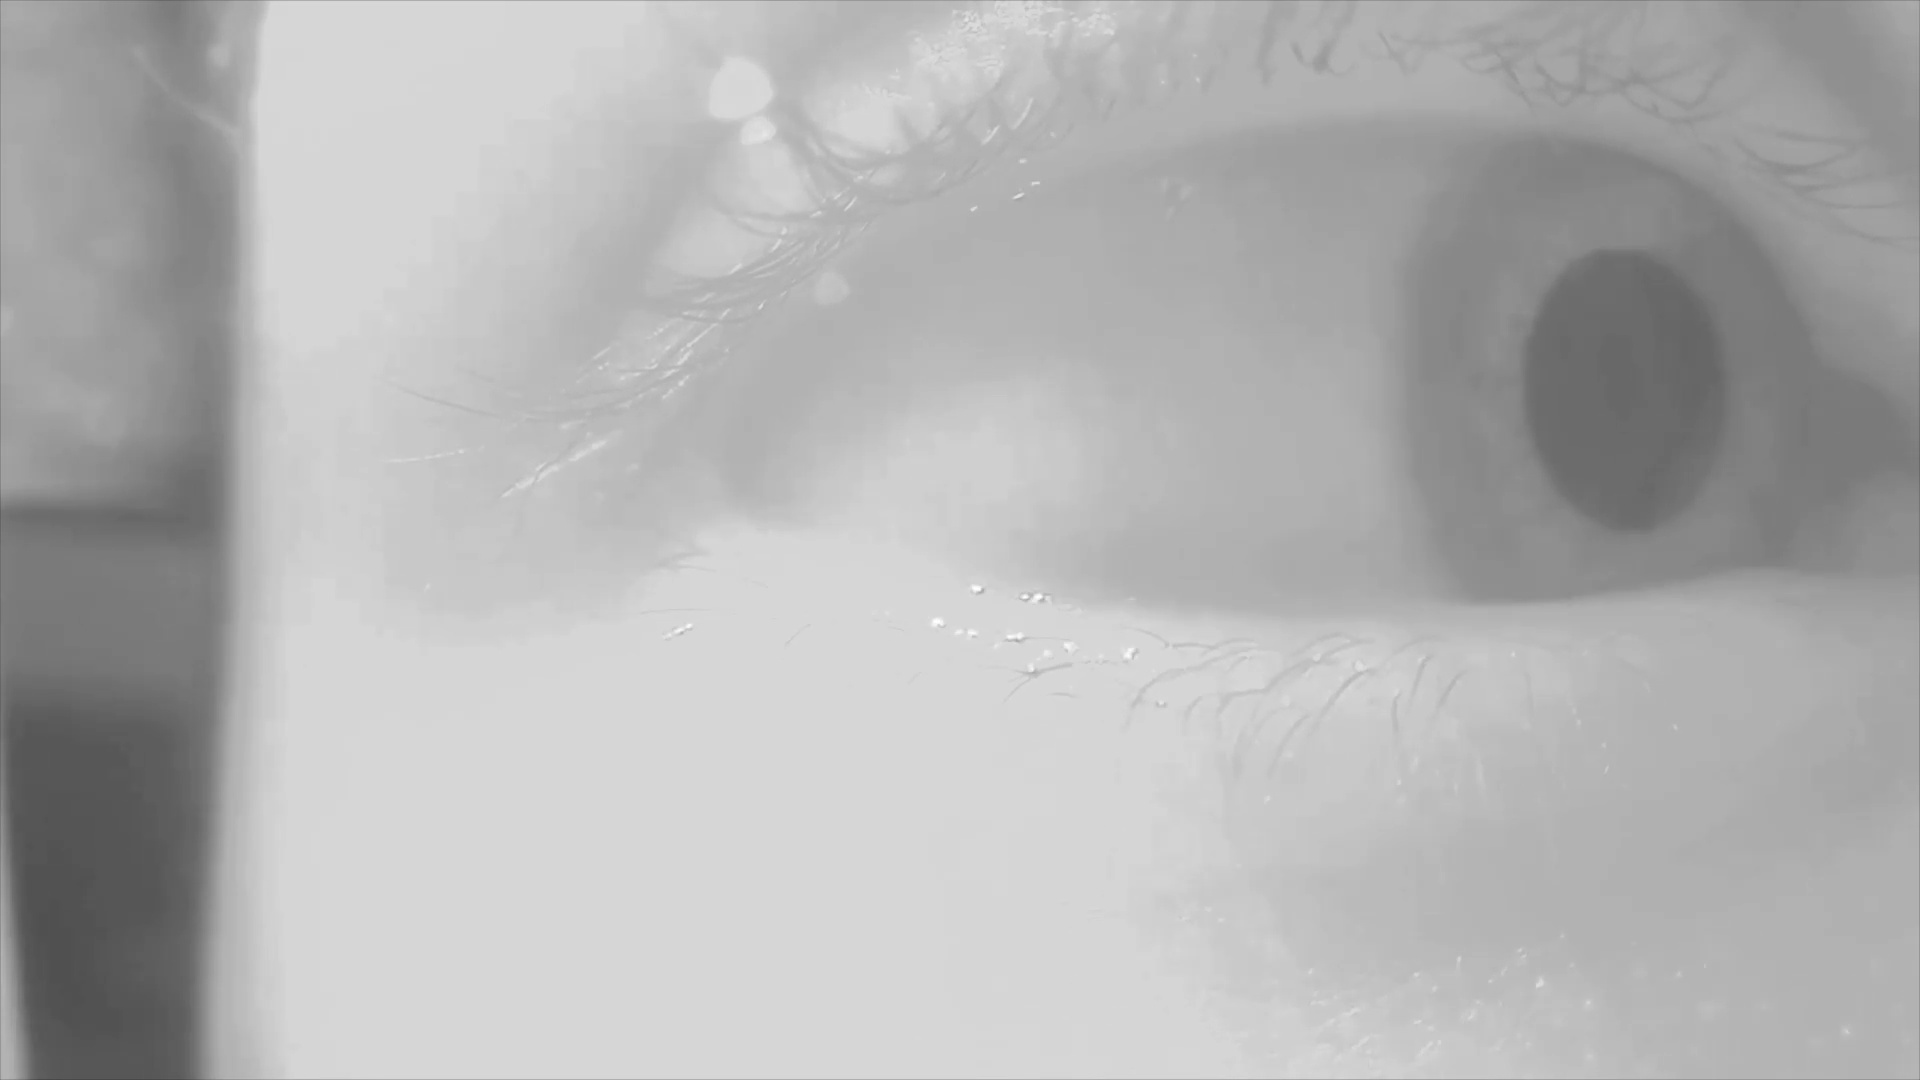pupil: (1526, 253, 1730, 537)
